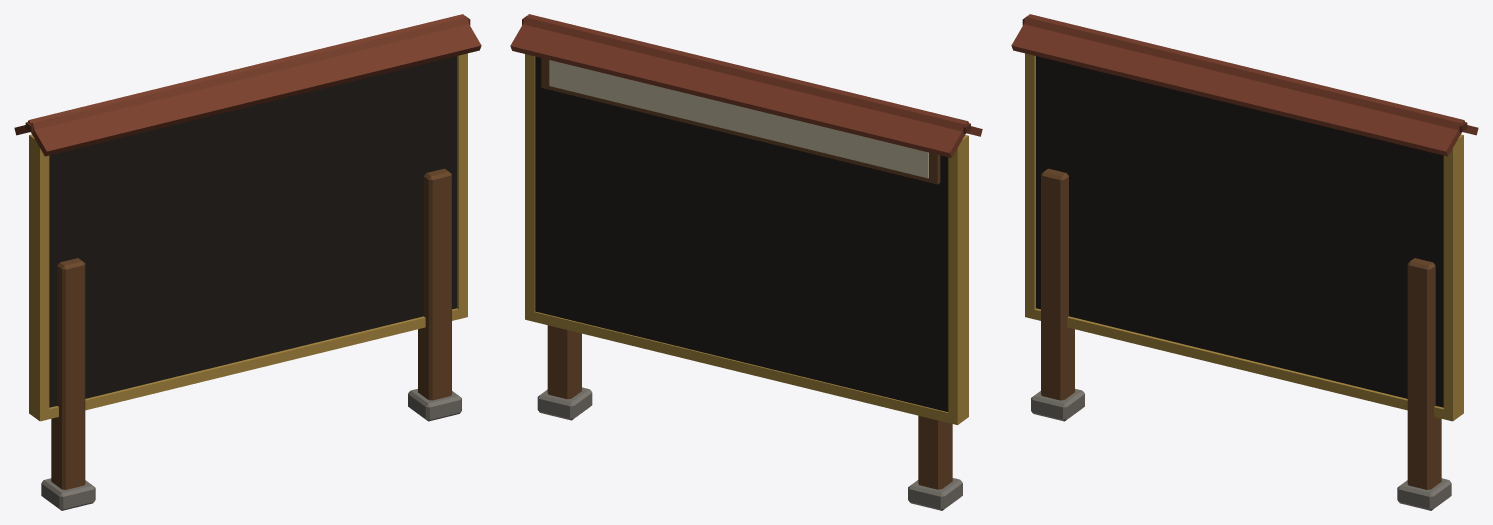
The model's file is PlotMapBoard.glb.
3 renders of one model, left to right at view 1: azimuth 30°, elevation 25°; view 2: azimuth 150°, elevation 25°; view 3: azimuth 330°, elevation 25°, orthographic.
Parts seen in each view (by area): view 1: Sign, Body; view 2: Sign, Body, Header; view 3: Sign, Body.
Part boxes in pixels (x1,y1,x2,y2): Sign: (49,56,456,407); Body: (14,14,481,510); Sign: (535,56,948,411); Body: (510,14,982,510); Header: (549,60,928,178); Sign: (1036,56,1443,407); Body: (1011,14,1478,510).
Size of what is drawn, in the model's own units: 10.3 by 8.62 by 1.32.
